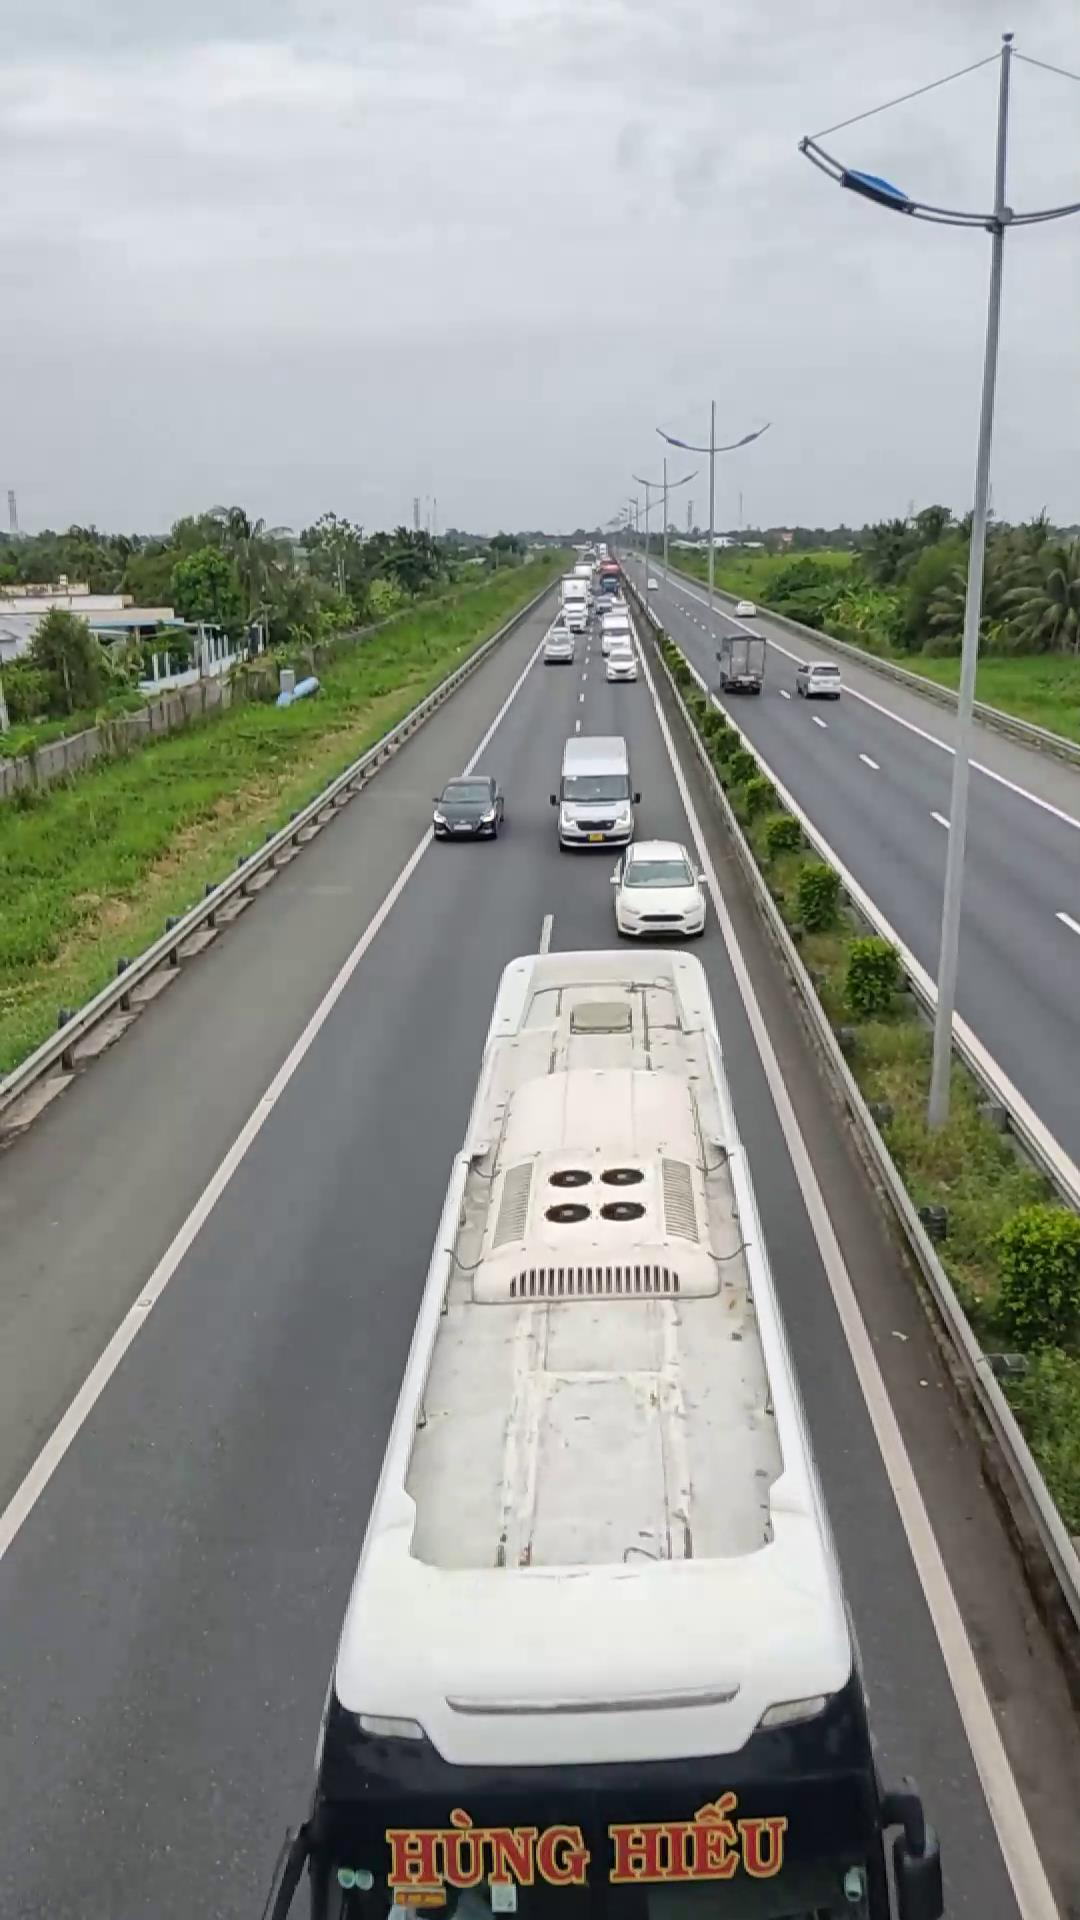bus: (309, 939, 914, 1911)
car: (550, 736, 640, 851), (609, 837, 707, 942), (431, 775, 505, 841)
